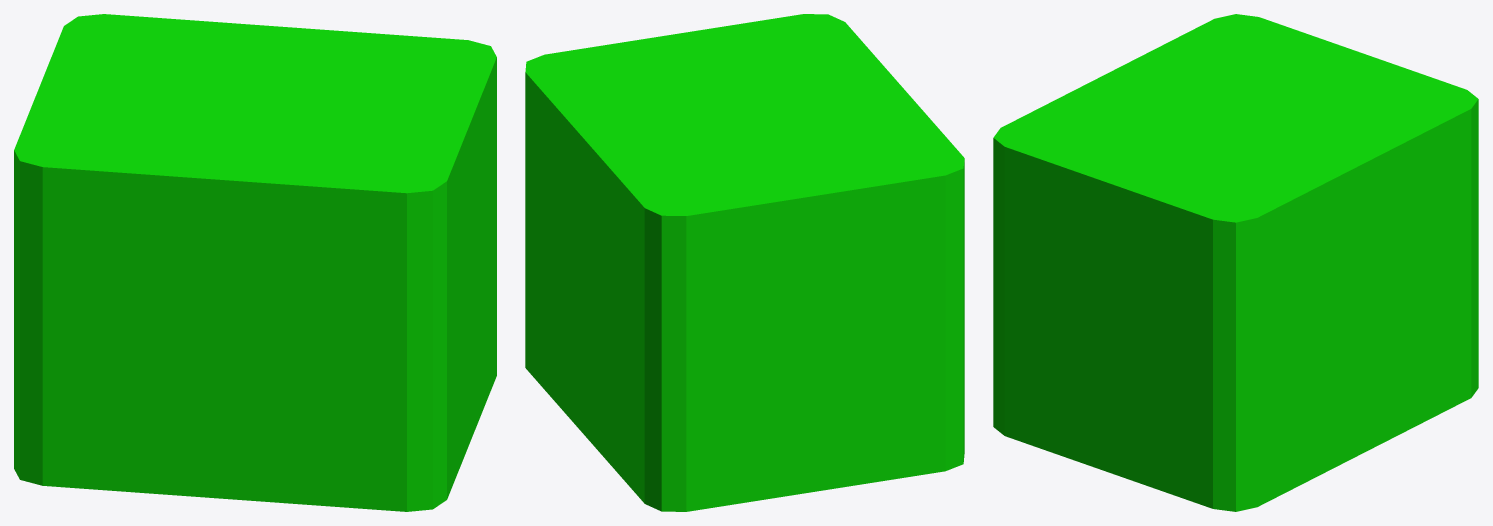
The picture shows the model from 3 angles, left to right: view 1: azimuth 30°, elevation 25°; view 2: azimuth 150°, elevation 25°; view 3: azimuth 270°, elevation 25°; orthographic projection. The views are drawn at different scales.
Visible parts, largest first — view 1: Cube.001; view 2: Cube.001; view 3: Cube.001.
Part boxes in pixels (bbox=[...]): Cube.001: bbox=[14, 14, 496, 511]; Cube.001: bbox=[525, 14, 964, 511]; Cube.001: bbox=[993, 14, 1478, 511].
Bounding box in the file's own units: 1436 × 928 × 1411.
